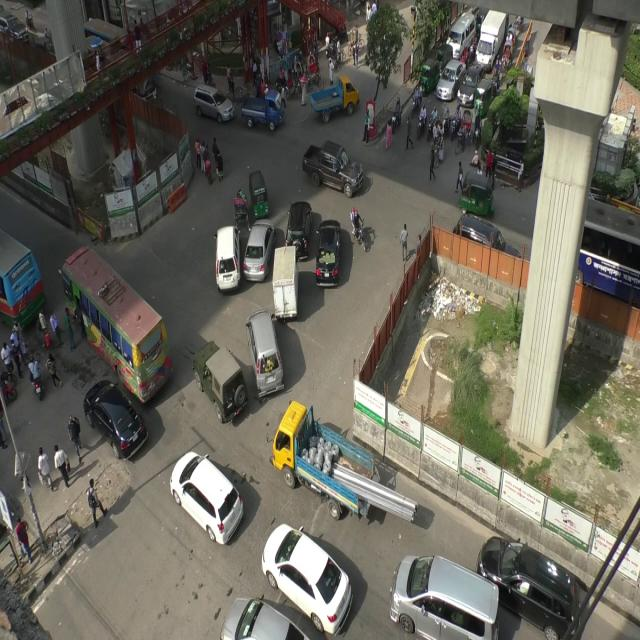cng: (457, 167, 497, 220), (247, 166, 272, 216), (474, 78, 491, 124), (419, 57, 437, 97), (434, 44, 453, 74)
rikshaw: (234, 185, 251, 231), (306, 52, 324, 89), (458, 111, 474, 147), (286, 66, 300, 101), (293, 62, 309, 91), (350, 26, 365, 52), (502, 39, 512, 74)
